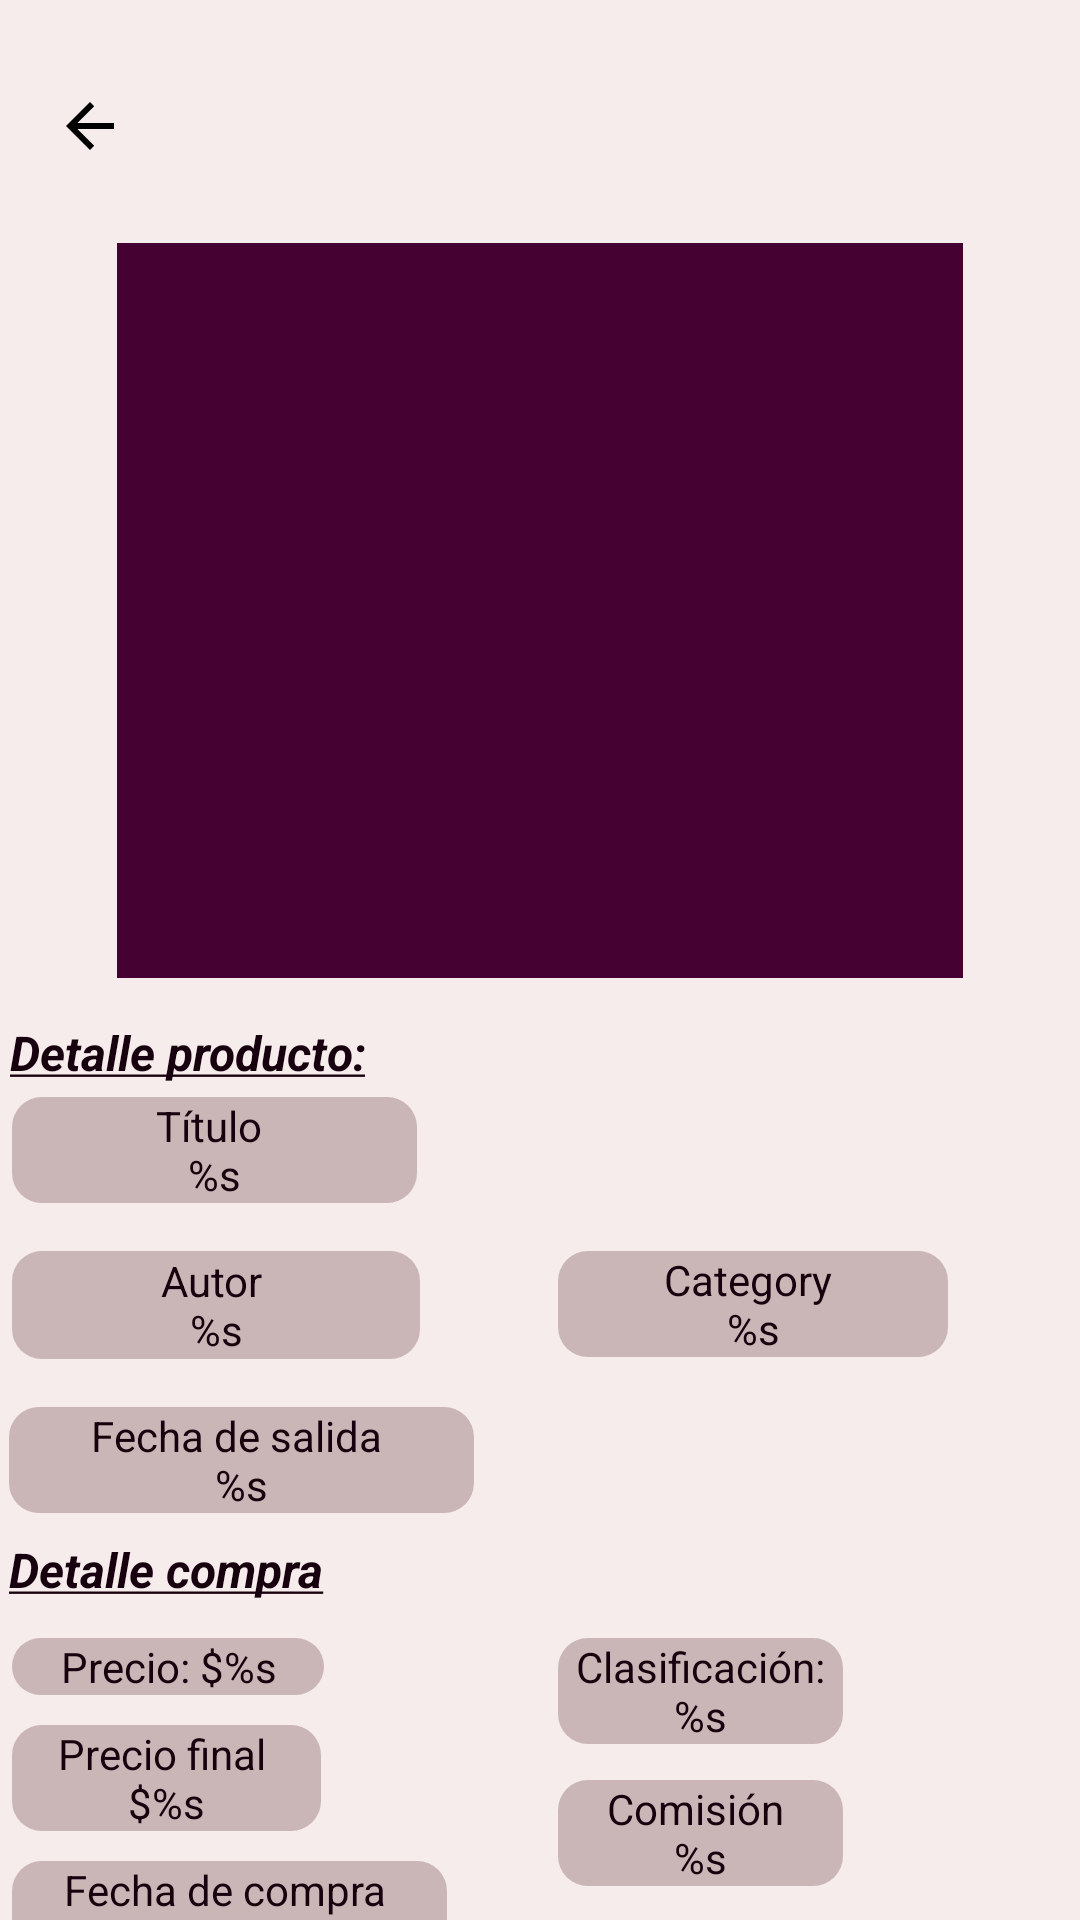

Where to tap for icons on this 1080x1920 app screen, as [x,y]:
Boton para volver: [90,126]
